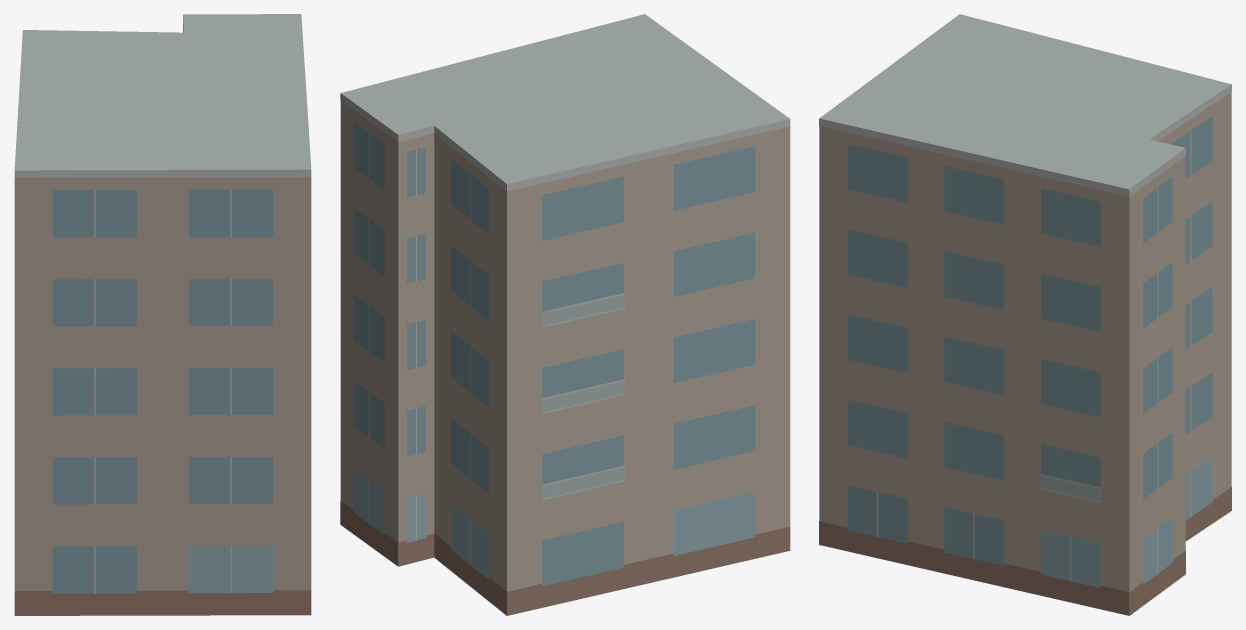
File: survey-upis-32994816.glb
3 views of the same model, side by side, from view 1: azimuth 30°, elevation 25°; view 2: azimuth 150°, elevation 25°; view 3: azimuth 270°, elevation 25° (orthographic). The views are drawn at different scales.
Visible parts, largest first — view 1: survey-upis-32994816.tmp; view 2: survey-upis-32994816.tmp; view 3: survey-upis-32994816.tmp.
Boxes of the visible parts, x1,y1,x2,y2 form: survey-upis-32994816.tmp: (14,14,311,615); survey-upis-32994816.tmp: (340,14,790,615); survey-upis-32994816.tmp: (819,14,1231,615).
Bounding box in the file's own units: 12.54 × 14.2 × 12.46.
